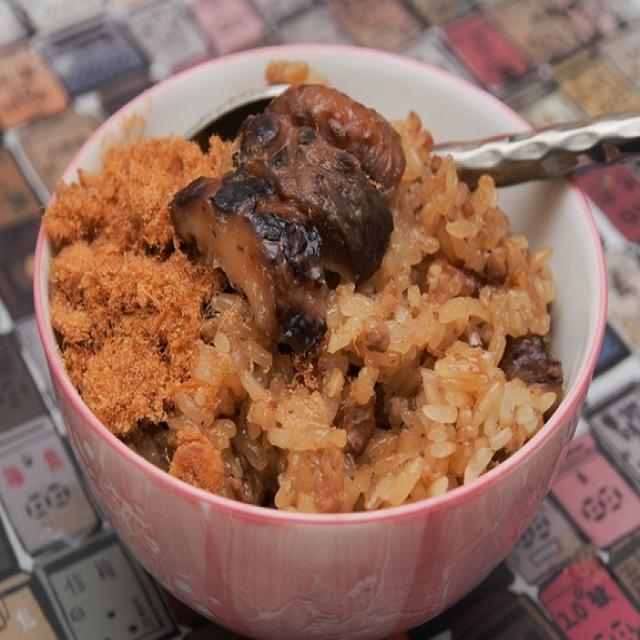米饭主食: (24, 37, 614, 581)
